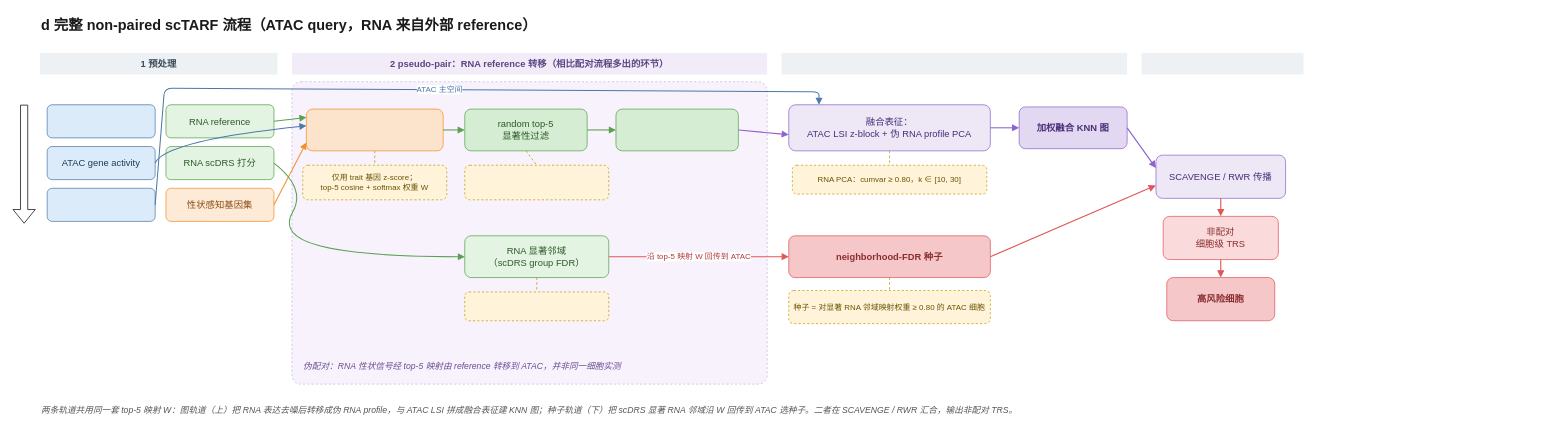
This 1564x428 diagram has some shape labels left out. The centre of each missing label's shape, as x and y in pixels:
3 融合图构建与种子选择: point (954, 63)
4 RWR / TRS: point (1222, 63)
ATAC LSI z-block: point (100, 204)
ATAC-to-RNA top-5 映射 （权重 W）: point (374, 129)
Granja ATAC query: point (100, 121)
伪 RNA profile: point (676, 129)
对照 B = 1000 个 random top-5； empirical p ≤ 0.01: point (536, 182)
邻域 qval ≤ 0.10 且 均分 > 0: point (536, 306)
